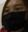with_mask: (1, 2, 28, 32)
